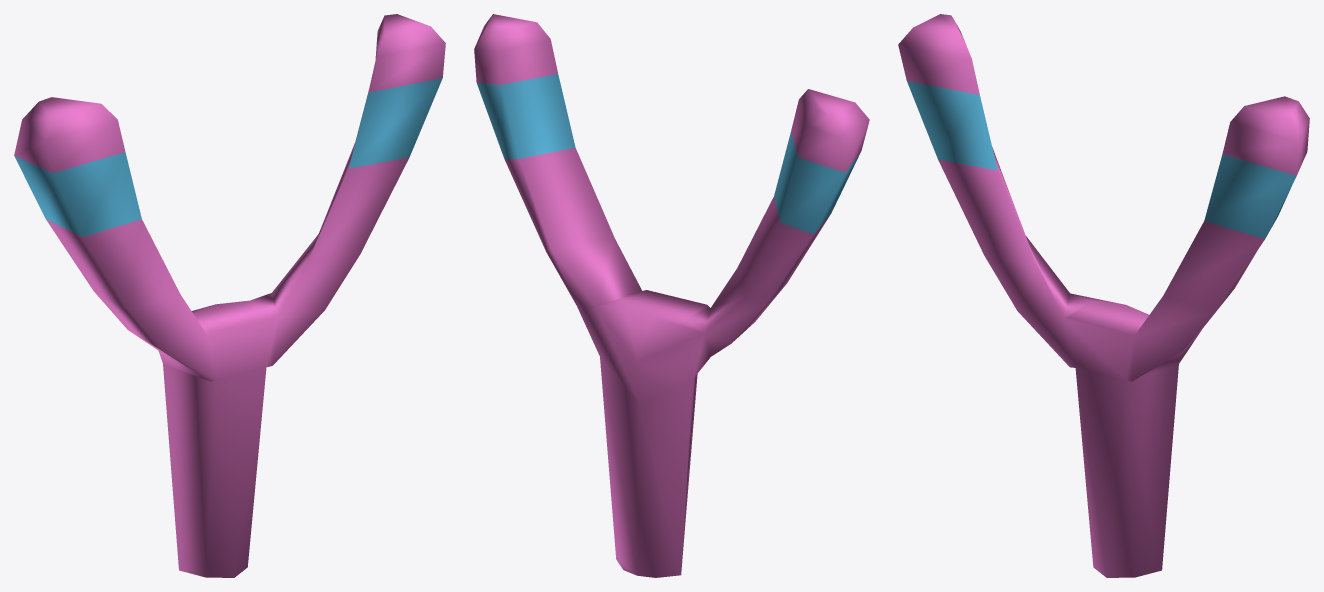
File: sling4.fbx
3 renders of one model, left to right at view 1: azimuth 30°, elevation 25°; view 2: azimuth 150°, elevation 25°; view 3: azimuth 330°, elevation 25°, orthographic. The views are drawn at different scales.
Parts seen in each view (by area): view 1: Cylinder; view 2: Cylinder; view 3: Cylinder.
Boxes of the visible parts, <box> form: Cylinder: <box>14,14,445,577</box>; Cylinder: <box>474,14,869,577</box>; Cylinder: <box>898,14,1309,577</box>.
Bounding box in the file's own units: 830 × 1005 × 153.
